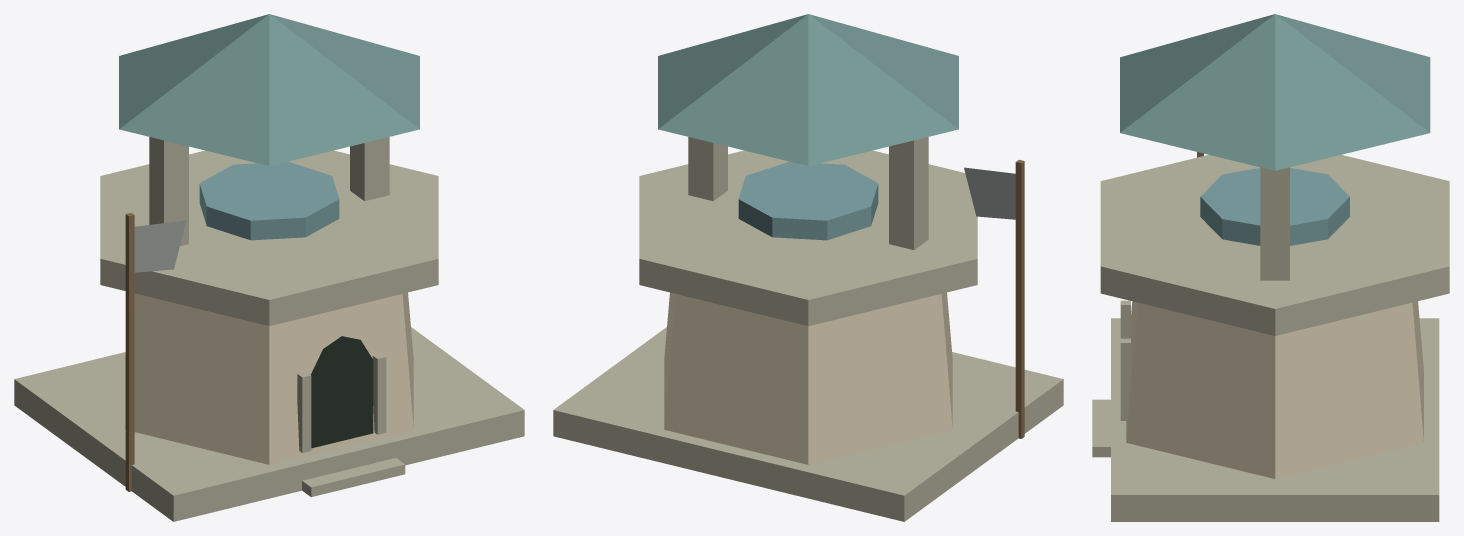
Rendered from fort-ward.glb.
3 views of the same model, side by side, from view 1: azimuth 30°, elevation 25°; view 2: azimuth 150°, elevation 25°; view 3: azimuth 270°, elevation 25° (orthographic). The views are drawn at different scales.
Parts seen in each view (by area): view 1: Building; view 2: Building; view 3: Building.
Boxes of the visible parts, x1,y1,x2,y2 form: Building: [14, 14, 524, 521]; Building: [553, 14, 1063, 521]; Building: [1092, 14, 1449, 521].
Size of the model in its own units: 56.45 by 62 by 47.88.
